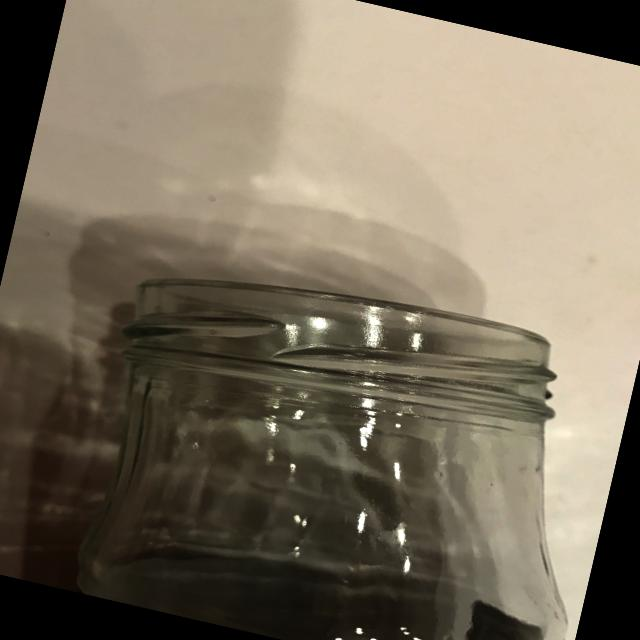Glass: (65, 226, 640, 640)
